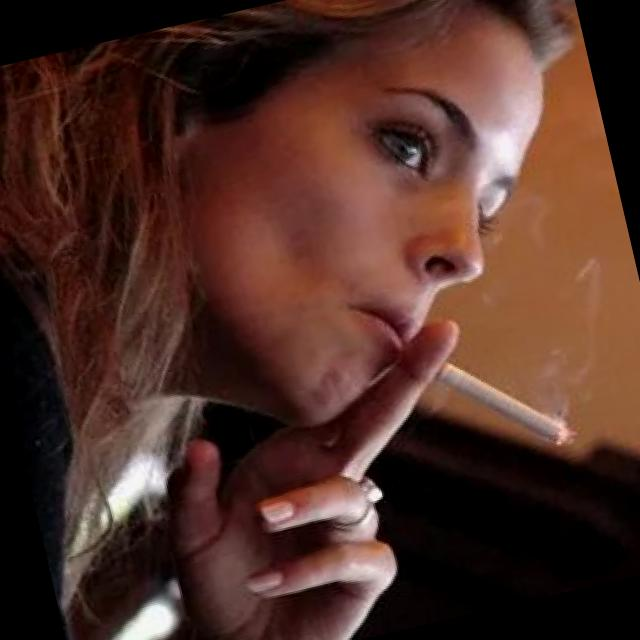smoke: (429, 328, 576, 472)
